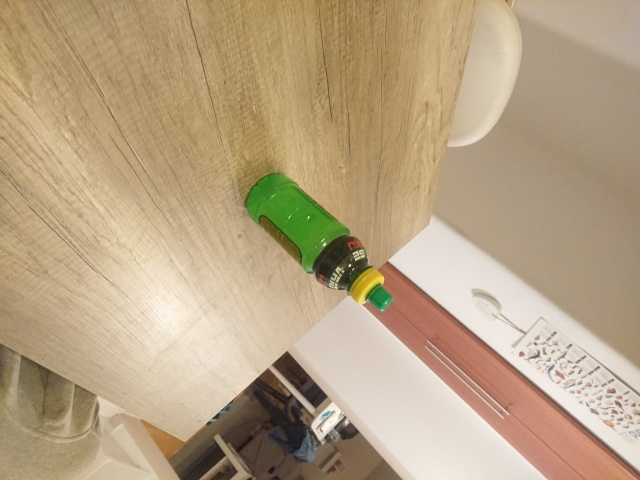Vindi Iso Sport Lemon-Grapefruit 500mL: (243, 170, 397, 314)
